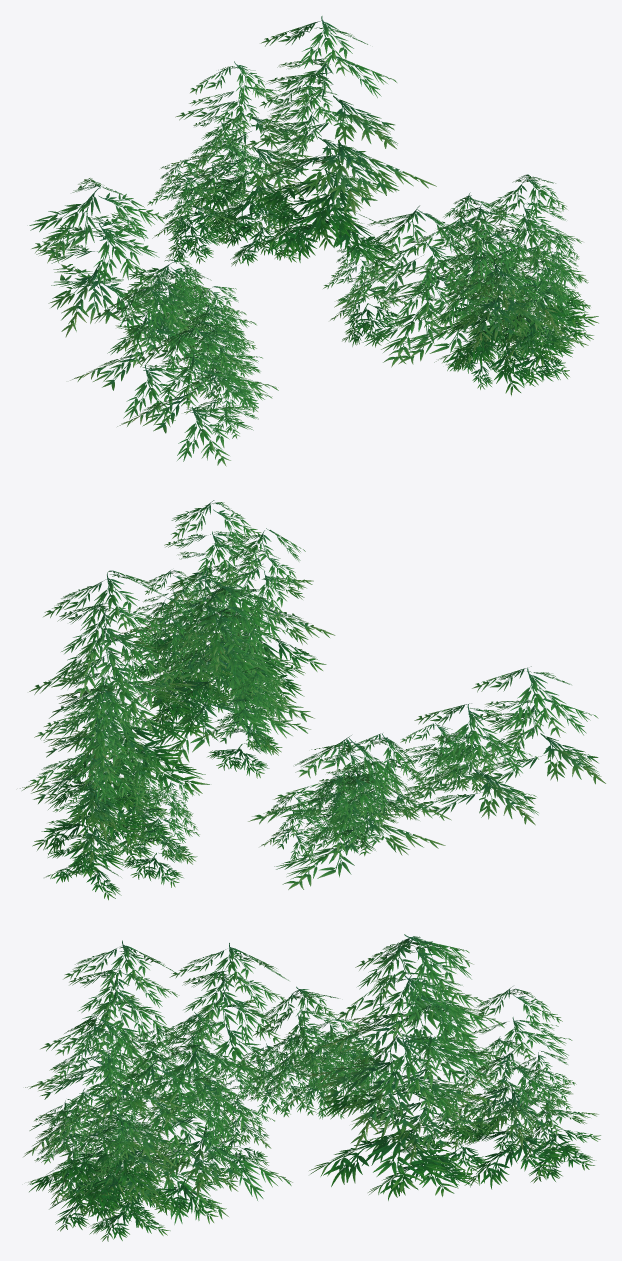
The model's file is Area_08_21.fbx.
3 views of the same model, one above another, from view 1: azimuth 30°, elevation 25°; view 2: azimuth 150°, elevation 25°; view 3: azimuth 270°, elevation 25° (orthographic). The views are drawn at different scales.
Parts seen in each view (by area): view 1: Area_08_21; view 2: Area_08_21; view 3: Area_08_21.
Boxes of the visible parts, <box> form: Area_08_21: <box>29,16,598,466</box>; Area_08_21: <box>20,500,605,900</box>; Area_08_21: <box>23,934,600,1241</box>.
Bounding box in the file's own units: 4729 × 2485 × 4994.
